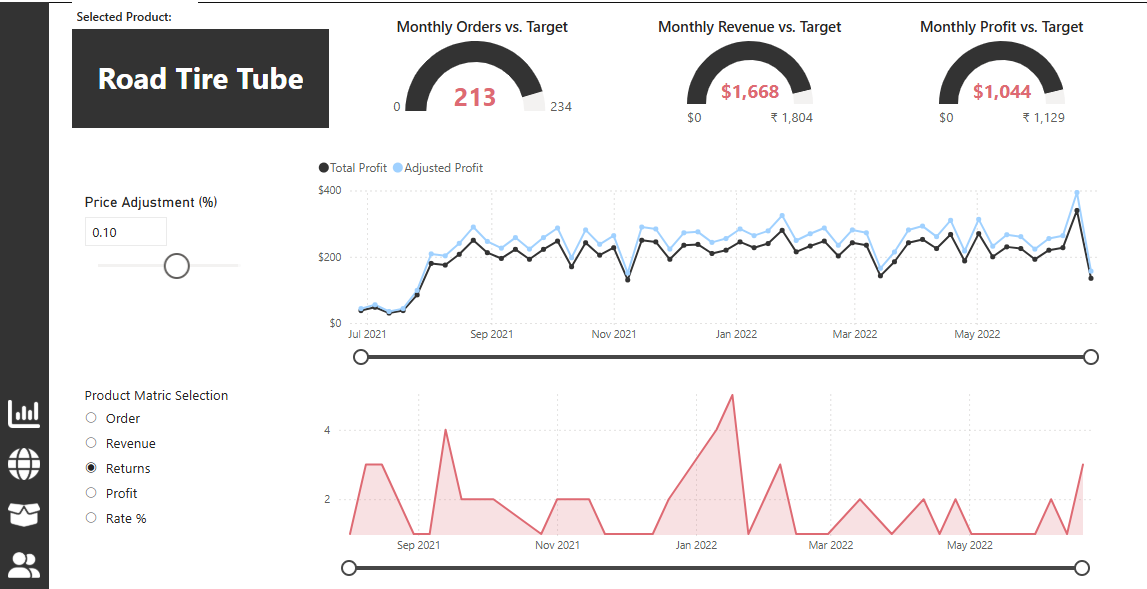

The page's visual inventory and layout, read from the dashboard file:
{"tool":"powerbi","page":{"name":"Product Detail","canvas":[1150,590],"ordinal":3},"visuals":[{"type":"shape","box":[0,0,50.4,590],"z":0},{"type":"gauge","title":"Monthly Orders vs. Target","fields":{"Y":["Measure Table.Total Order"],"MaxValue":["Measure Table.Order Target"]},"box":[368.9,14.4,228.9,104.4],"z":1000},{"type":"gauge","title":"Monthly Revenue vs. Target","fields":{"Y":["Measure Table.Total Revenue"],"MaxValue":["Measure Table.Revenue Target"]},"box":[647.2,14.4,207.8,120],"z":2000},{"type":"gauge","title":"Monthly Profit vs. Target","fields":{"Y":["Measure Table.Total Profit"],"MaxValue":["Measure Table.Profit Target"]},"box":[904.4,14.4,197.8,120],"z":3000},{"type":"lineChart","title":"Profit Trending","fields":{"Category":["Calendar Lookup.Date Hierarchy.Start of Year","Calendar Lookup.Date Hierarchy.Start of Month","Calendar Lookup.Date Hierarchy.Start of Week","Calendar Lookup.Date Hierarchy.Date"],"Y":["Measure Table.Total Profit","Measure Table.Adjusted Profit"]},"box":[314.2,146.3,807.1,219.5],"z":4000},{"type":"areaChart","title":"Return Trending","fields":{"Y":["Measure Table.Total Returns"],"Category":["Calendar Lookup.Date Hierarchy.Start of Year","Calendar Lookup.Date Hierarchy.Start of Month","Calendar Lookup.Date Hierarchy.Start of Week","Calendar Lookup.Date Hierarchy.Date"]},"box":[314.2,378.9,798.7,197.9],"z":5000},{"type":"card","fields":{"Values":["Min(Product Lookup.ProductName)"]},"box":[73,27.2,257.2,98.9],"z":6000},{"type":"textbox","box":[73,0,126.1,27.2],"z":7000},{"type":"actionButton","box":[4.8,391.8,65.5,39.8],"z":8000},{"type":"actionButton","box":[4.8,492.9,65.5,39.8],"z":9000},{"type":"actionButton","box":[4.8,442.4,65.5,39.8],"z":10000},{"type":"actionButton","box":[4.8,543.4,65.5,39.8],"z":11000},{"type":"slicer","fields":{"Values":["Price Adjustment (%).Price Adjustment (%)"]},"box":[73.2,187.1,189.5,153.5],"z":12000},{"type":"slicer","fields":{"Values":["Product Matric Selection.Product Matrix Selection"]},"box":[73.2,378.9,202.7,176.3],"z":13000}]}

Visuals, with their boxes on the page's 1150x590 design canvas (x1, y1, x2, y2). These are canvas units, not pixel positions in the 1147x589 screenshot, which may show the page scaled, cropped or inside an application window:
shape: bbox=(0, 0, 50, 590)
"Monthly Orders vs. Target" gauge: bbox=(369, 14, 598, 119)
"Monthly Revenue vs. Target" gauge: bbox=(647, 14, 855, 134)
"Monthly Profit vs. Target" gauge: bbox=(904, 14, 1102, 134)
"Profit Trending" lineChart: bbox=(314, 146, 1121, 366)
"Return Trending" areaChart: bbox=(314, 379, 1113, 577)
card - Min(Product Lookup.ProductName): bbox=(73, 27, 330, 126)
textbox: bbox=(73, 0, 199, 27)
actionButton: bbox=(5, 392, 70, 432)
actionButton: bbox=(5, 493, 70, 533)
actionButton: bbox=(5, 442, 70, 482)
actionButton: bbox=(5, 543, 70, 583)
slicer - Price Adjustment (%).Price Adjustment (%): bbox=(73, 187, 263, 341)
slicer - Product Matric Selection.Product Matrix Selection: bbox=(73, 379, 276, 555)
